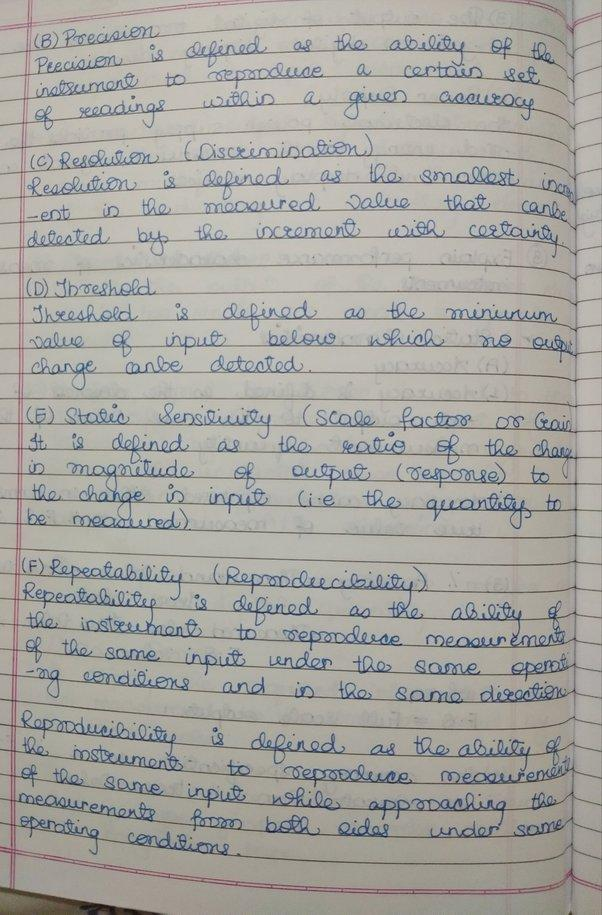text: (14, 760, 561, 829), (20, 706, 561, 773), (15, 730, 576, 794), (18, 578, 567, 635), (15, 788, 567, 842), (23, 631, 577, 682), (19, 607, 571, 657), (24, 482, 566, 532), (31, 84, 536, 135), (23, 215, 563, 262), (21, 431, 583, 476), (30, 32, 560, 79), (24, 400, 579, 442), (21, 663, 576, 705), (24, 163, 578, 203), (33, 62, 544, 104), (25, 455, 555, 495), (24, 325, 579, 363), (19, 555, 432, 606), (28, 296, 561, 335), (24, 192, 570, 226), (28, 131, 378, 176), (15, 811, 246, 862), (28, 353, 308, 395), (22, 504, 191, 535), (32, 19, 162, 55), (20, 273, 158, 301)
